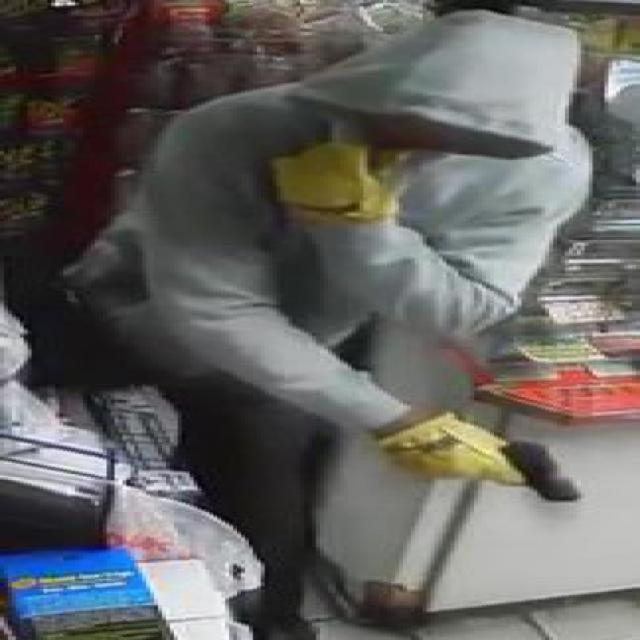pistol: (418, 428, 582, 503)
